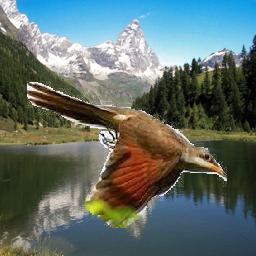Cuckoo: (27, 82, 227, 229)
